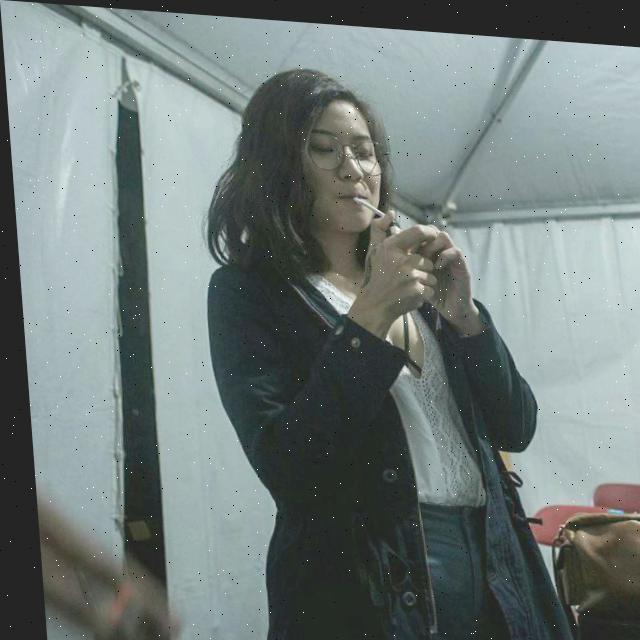cigarette: (352, 192, 383, 212)
